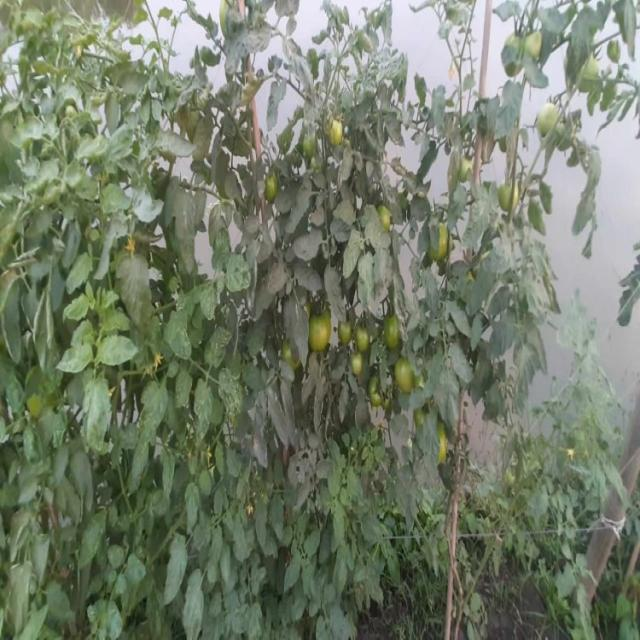tomato: (29, 368, 63, 423), (511, 27, 552, 66), (306, 309, 332, 357), (535, 99, 564, 137), (429, 225, 457, 264), (576, 55, 608, 88), (497, 184, 531, 215), (328, 115, 358, 148), (216, 1, 246, 33), (395, 354, 416, 395), (262, 171, 287, 202), (374, 205, 397, 236), (385, 318, 406, 351), (299, 135, 325, 160), (279, 339, 298, 371), (369, 377, 386, 412), (460, 152, 478, 182), (355, 324, 371, 351), (441, 428, 451, 467), (350, 355, 366, 378), (339, 316, 351, 342), (416, 407, 426, 434), (507, 471, 521, 488)
